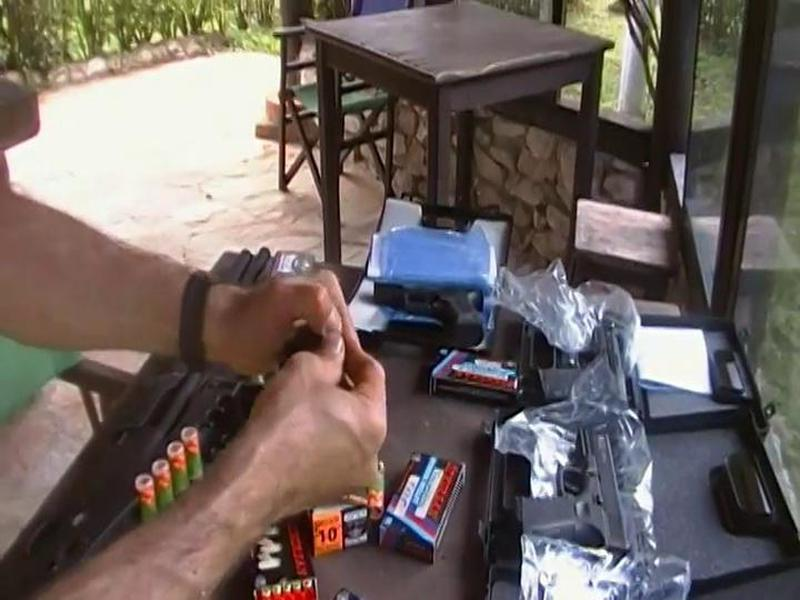Pistola: (496, 414, 661, 573)
